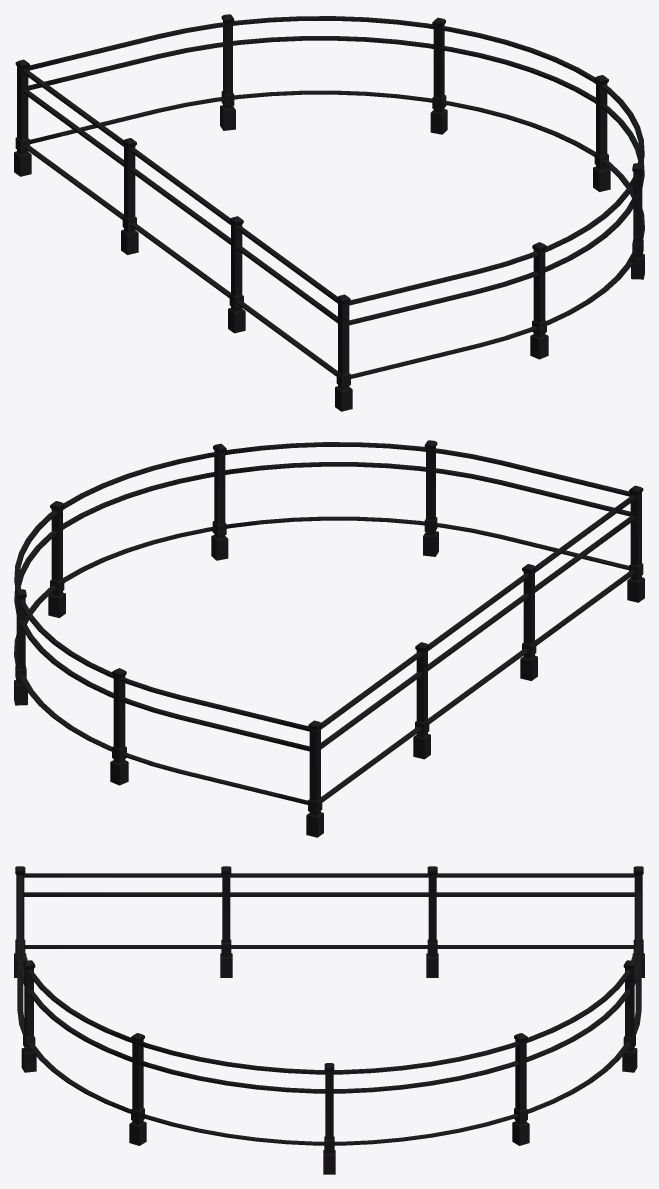
Rendered from City_Fence01.fbx.
3 renders of one model, top to bottom at view 1: azimuth 30°, elevation 25°; view 2: azimuth 150°, elevation 25°; view 3: azimuth 270°, elevation 25°, orthographic. The views are drawn at different scales.
Visible parts, largest first — view 1: SM_City_Fence_03a.mo; view 2: SM_City_Fence_03a.mo; view 3: SM_City_Fence_03a.mo.
Boxes of the visible parts, x1,y1,x2,y2 form: SM_City_Fence_03a.mo: (14,14,644,411); SM_City_Fence_03a.mo: (14,440,644,837); SM_City_Fence_03a.mo: (14,866,644,1174).
Size of the model in its own units: 385 by 95.78 by 508.
